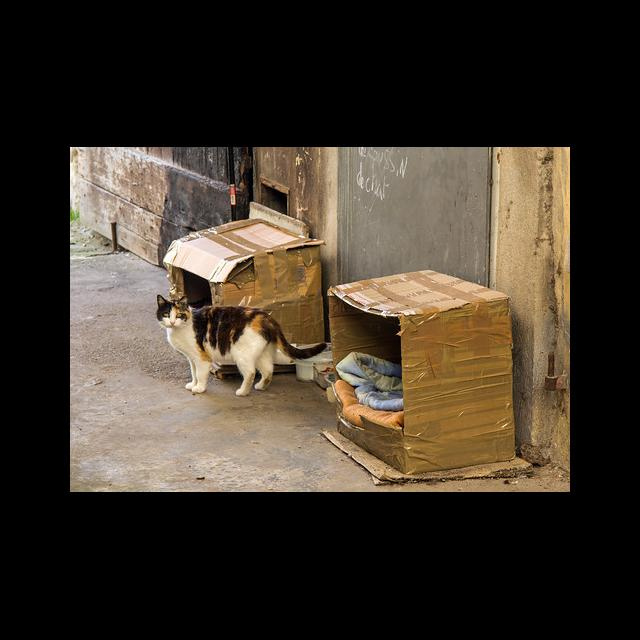animals: (156, 292, 326, 397)
